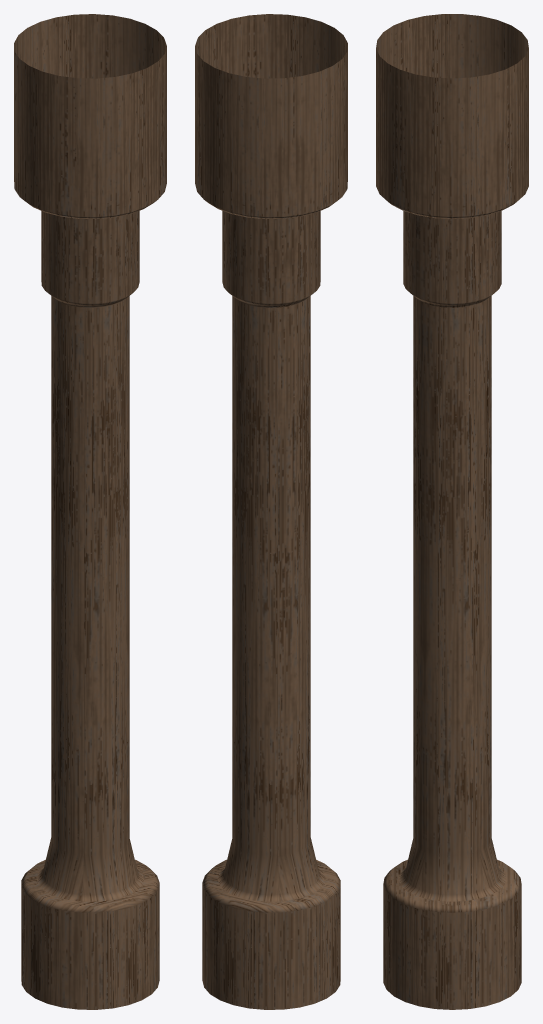
File: SM_column.fbx
3 renders of one model, left to right at view 1: azimuth 30°, elevation 25°; view 2: azimuth 150°, elevation 25°; view 3: azimuth 270°, elevation 25°, orthographic.
Visible parts, largest first — view 1: SM_column; view 2: SM_column; view 3: SM_column.
Boxes of the visible parts, x1,y1,x2,y2 form: SM_column: (14, 14, 166, 1009); SM_column: (195, 14, 347, 1009); SM_column: (376, 14, 528, 1009).
Bounding box in the file's own units: 55.44 × 55.55 × 375.
1 material, 1 textured.
